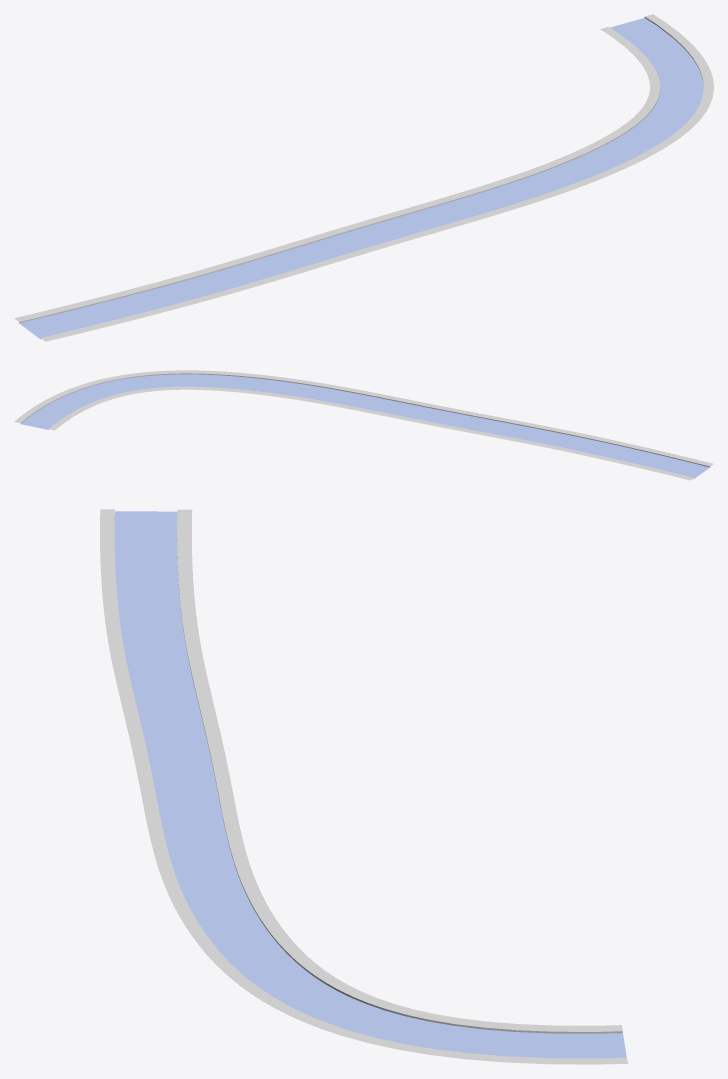
File: road_3.fbx
3 renders of one model, top to bottom at view 1: azimuth 30°, elevation 25°; view 2: azimuth 150°, elevation 25°; view 3: azimuth 270°, elevation 25°, orthographic. The views are drawn at different scales.
Parts seen in each view (by area): view 1: Plane.003; view 2: Plane.003; view 3: Plane.003.
Part boxes in pixels (bbox=[...]): Plane.003: bbox=[14, 14, 713, 341]; Plane.003: bbox=[14, 370, 713, 480]; Plane.003: bbox=[100, 509, 627, 1064].
Bounding box in the file's own units: 13889 × 21.45 × 5583.
